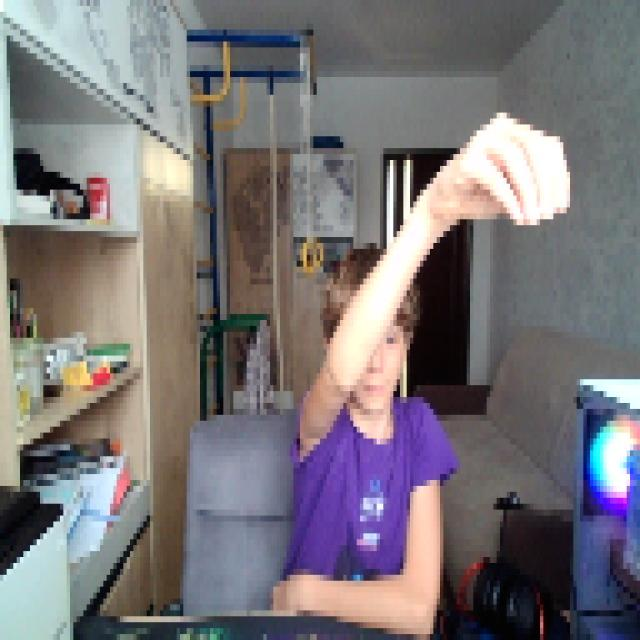left_click: (446, 101, 566, 225)
